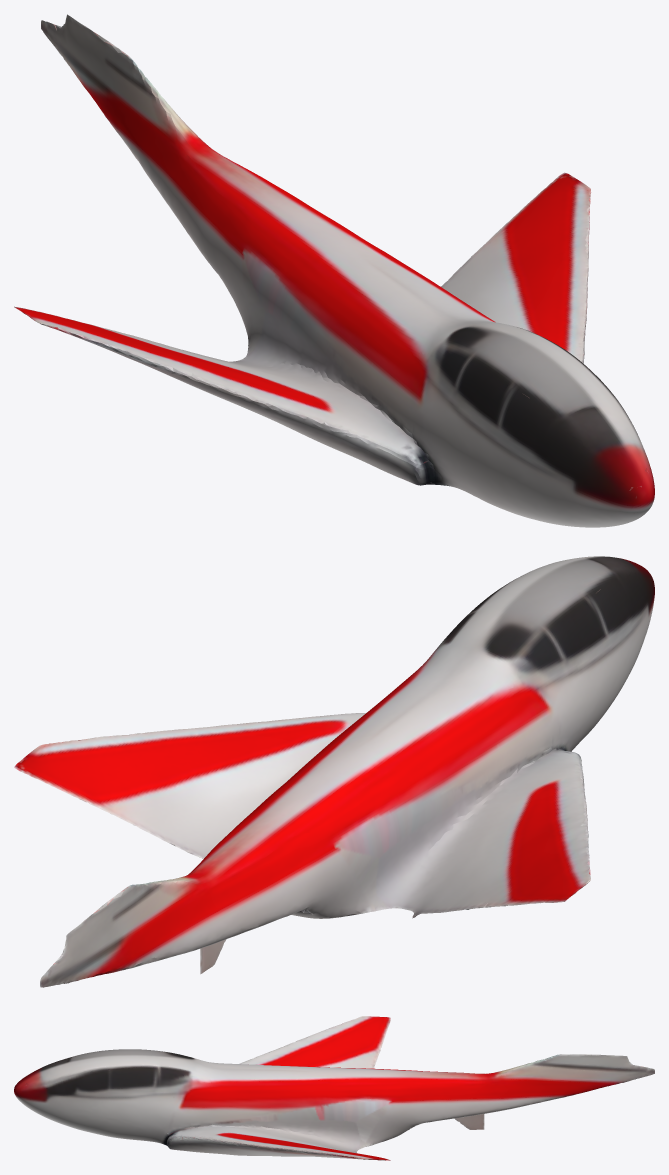
File: viper_tail.glb
3 views of the same model, one above another, from view 1: azimuth 30°, elevation 25°; view 2: azimuth 150°, elevation 25°; view 3: azimuth 270°, elevation 25° (orthographic). The views are drawn at different scales.
Parts seen in each view (by area): view 1: viper_tail; view 2: viper_tail; view 3: viper_tail.
Part boxes in pixels (x1,y1,x2,y2): viper_tail: (14, 14, 654, 527); viper_tail: (14, 556, 654, 987); viper_tail: (14, 1016, 654, 1160).
Bounding box in the file's own units: 1 × 0.2518 × 1.89.
Materials: 1 (1 with a texture image).
